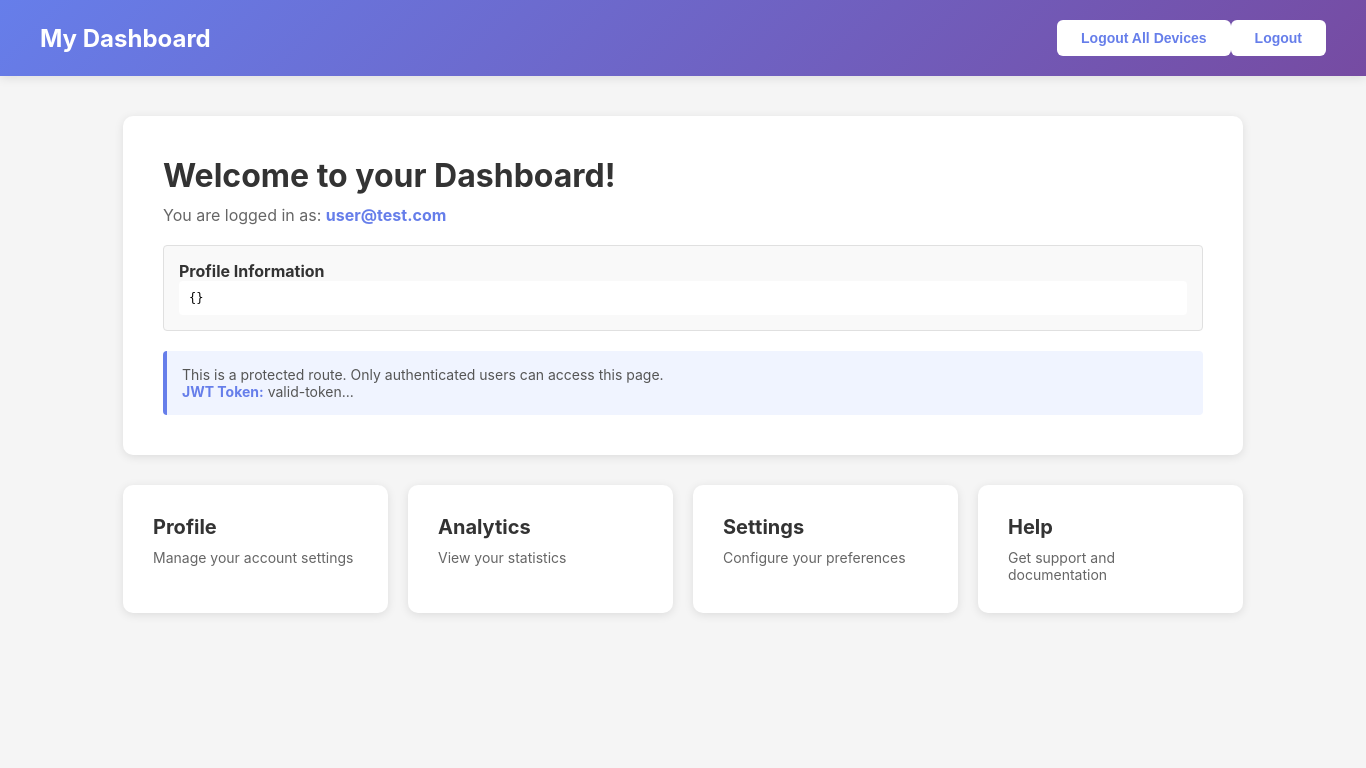
it: Dashboard › shows error and stays on dashboard when logoutAll fails
Click the button "Logout All Devices" at (1144, 38), box [1057,20,1231,56]
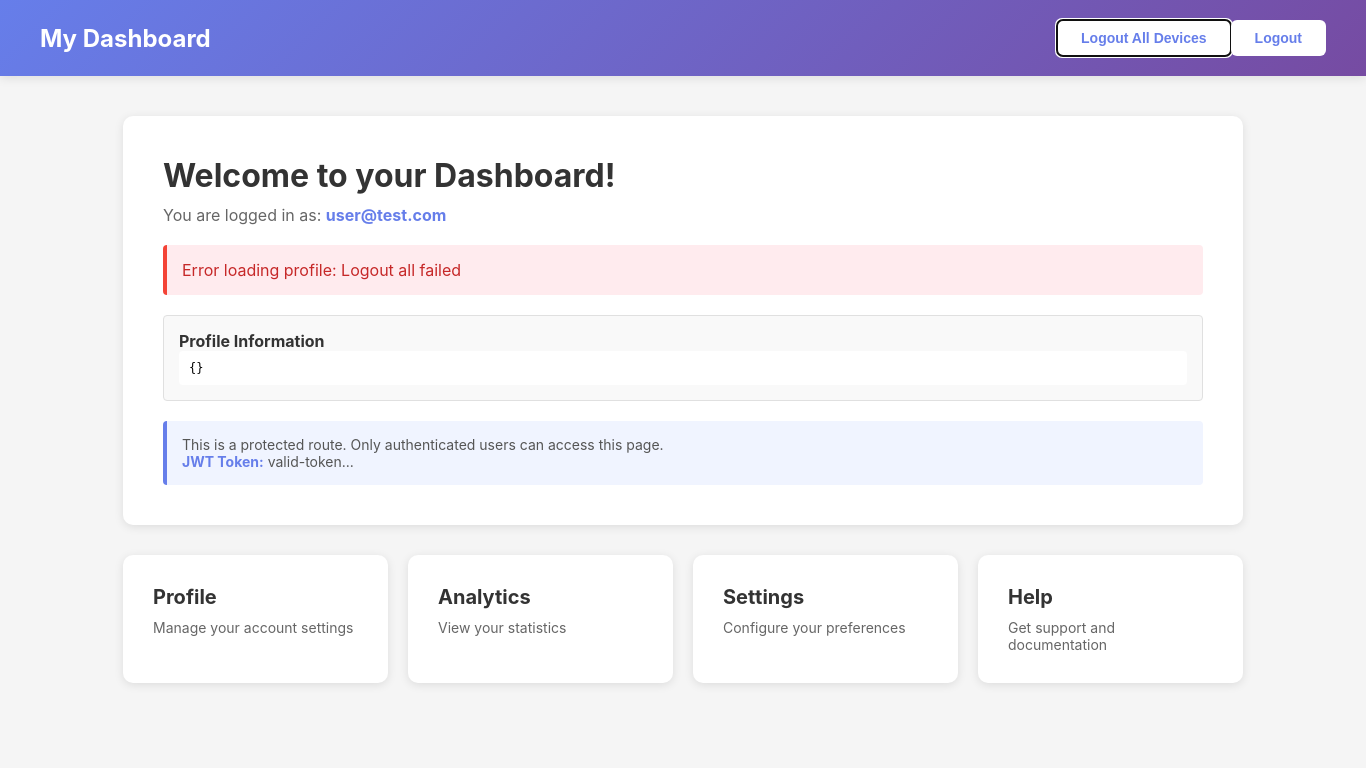
Expected: the text "Error loading profile: Logout all failed" is shown, [182,260,461,280]
